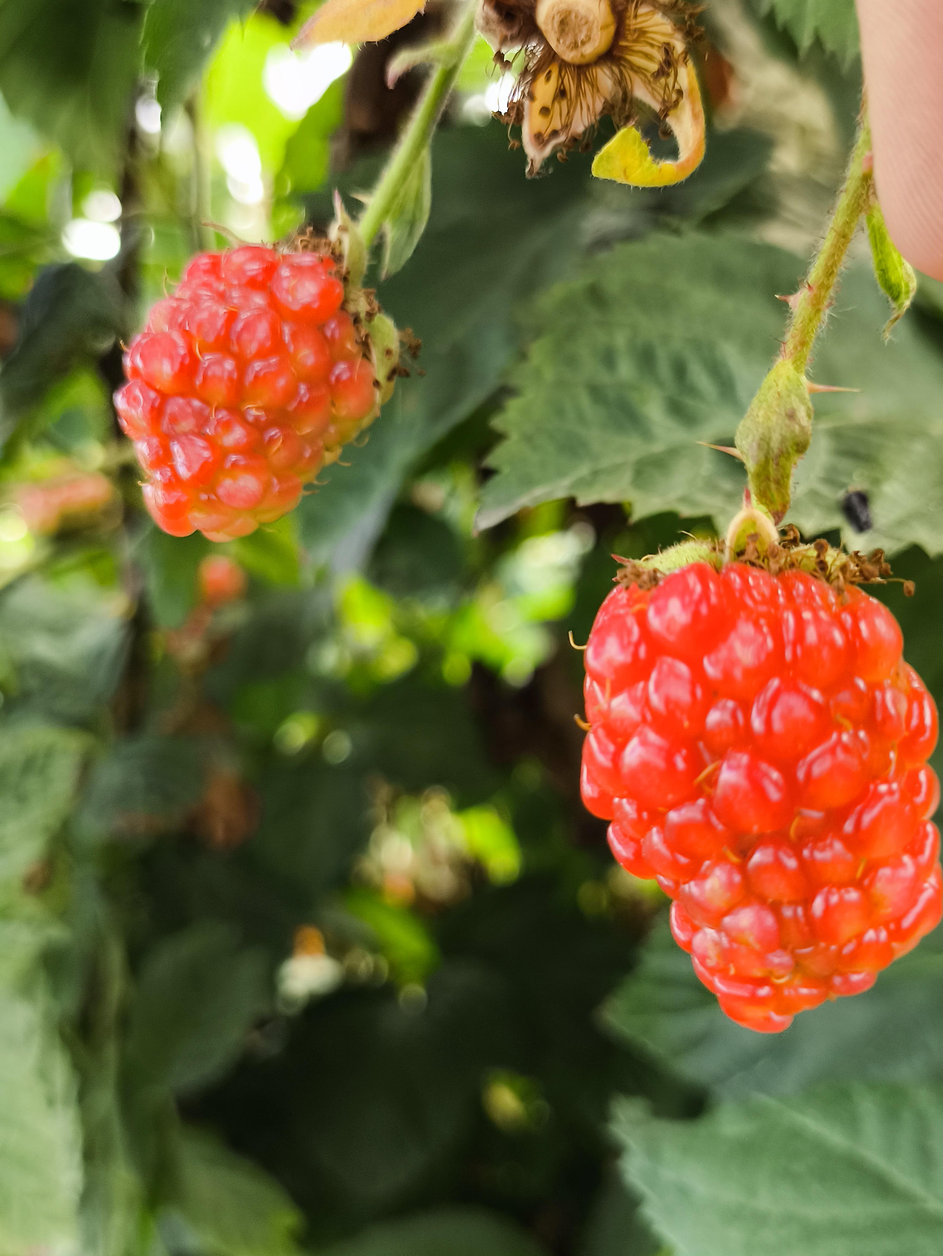naranja: (581, 555, 943, 1032), (115, 241, 389, 542)
